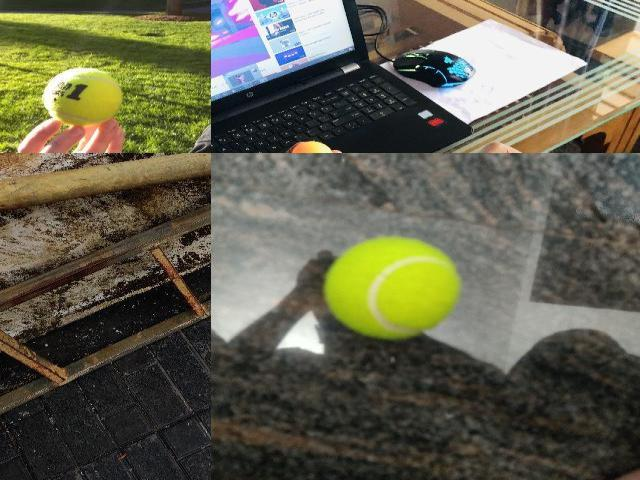tennis-ball: (322, 236, 460, 340), (41, 67, 123, 127)
